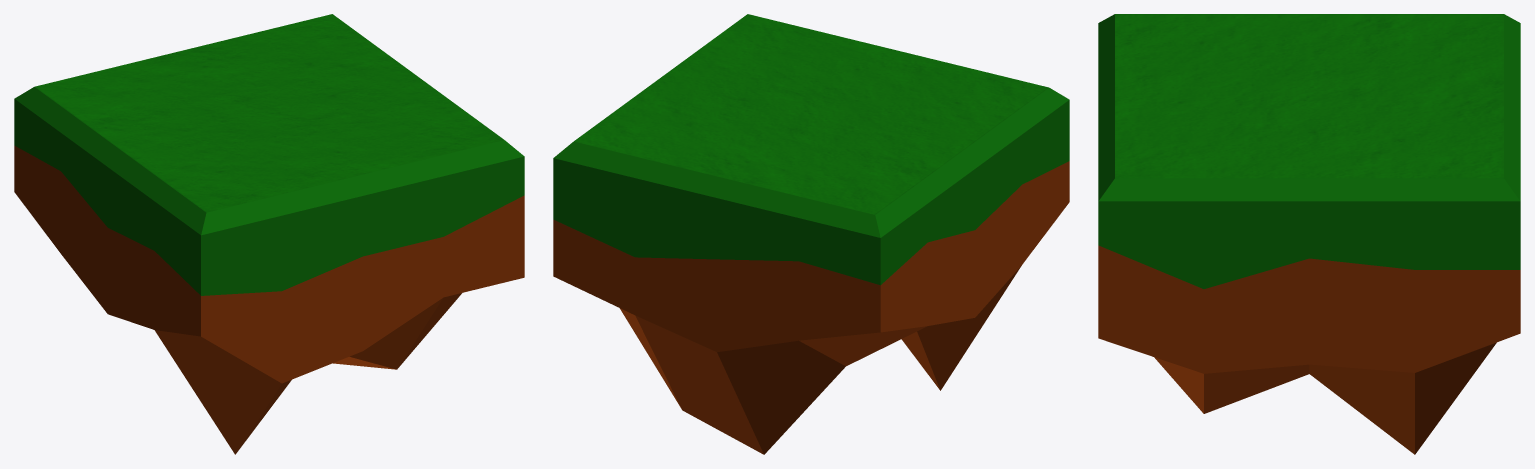
Rendered from land platform.glb.
3 renders of one model, left to right at view 1: azimuth 30°, elevation 25°; view 2: azimuth 150°, elevation 25°; view 3: azimuth 270°, elevation 25°, orthographic. The views are drawn at different scales.
Parts seen in each view (by area): view 1: Cube; view 2: Cube; view 3: Cube.
Part boxes in pixels (x1,y1,x2,y2): Cube: (14,14,524,454); Cube: (553,14,1069,454); Cube: (1098,14,1520,454).
Bounding box in the file's own units: 2 × 1.79 × 2.
Materials: 2 (1 with a texture image).
